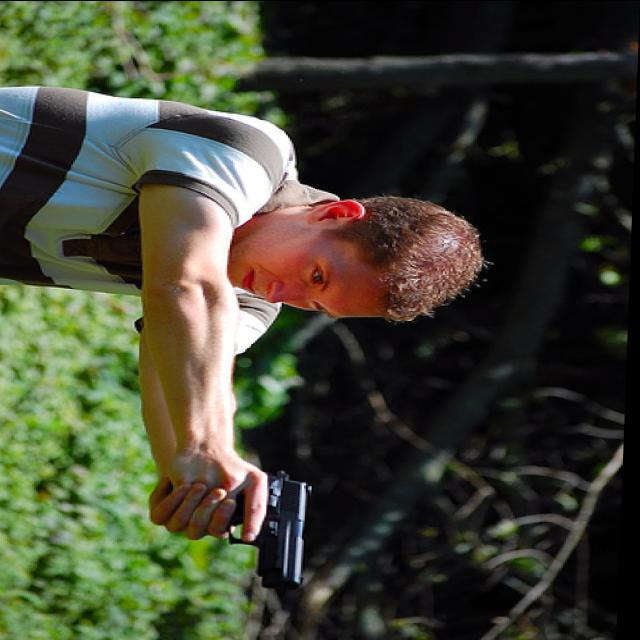handgun: (172, 467, 319, 590)
